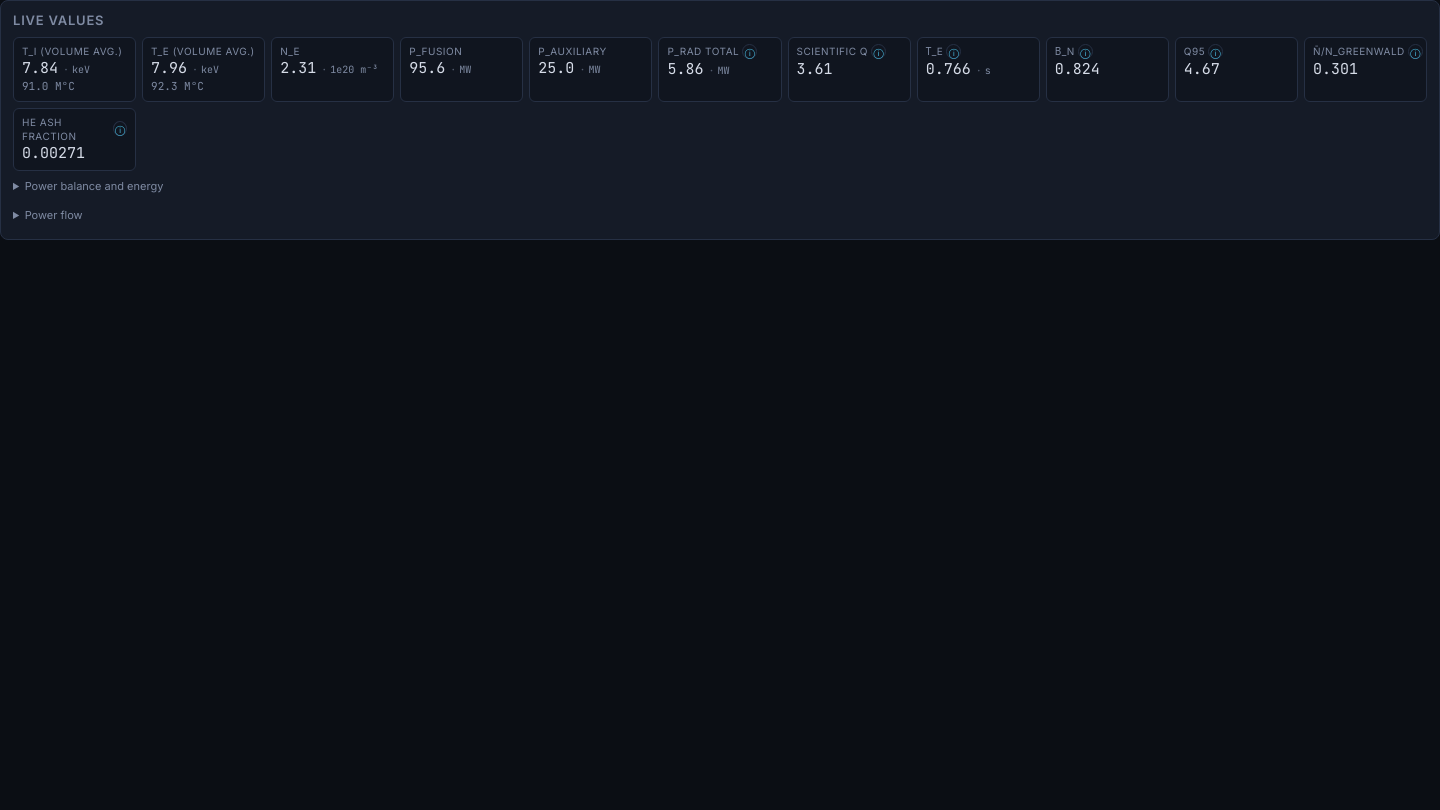
Scenario: LiveValuesPanel › puts an Explain popover on the label of a channel that has a glossary term, and none on one that has not
This screenshot has width=1440, height=810.
Note: the popover of the fusion gain is the glossary's
Click the button named "Explain Scientific gain": (878, 52) [871,44,886,59]
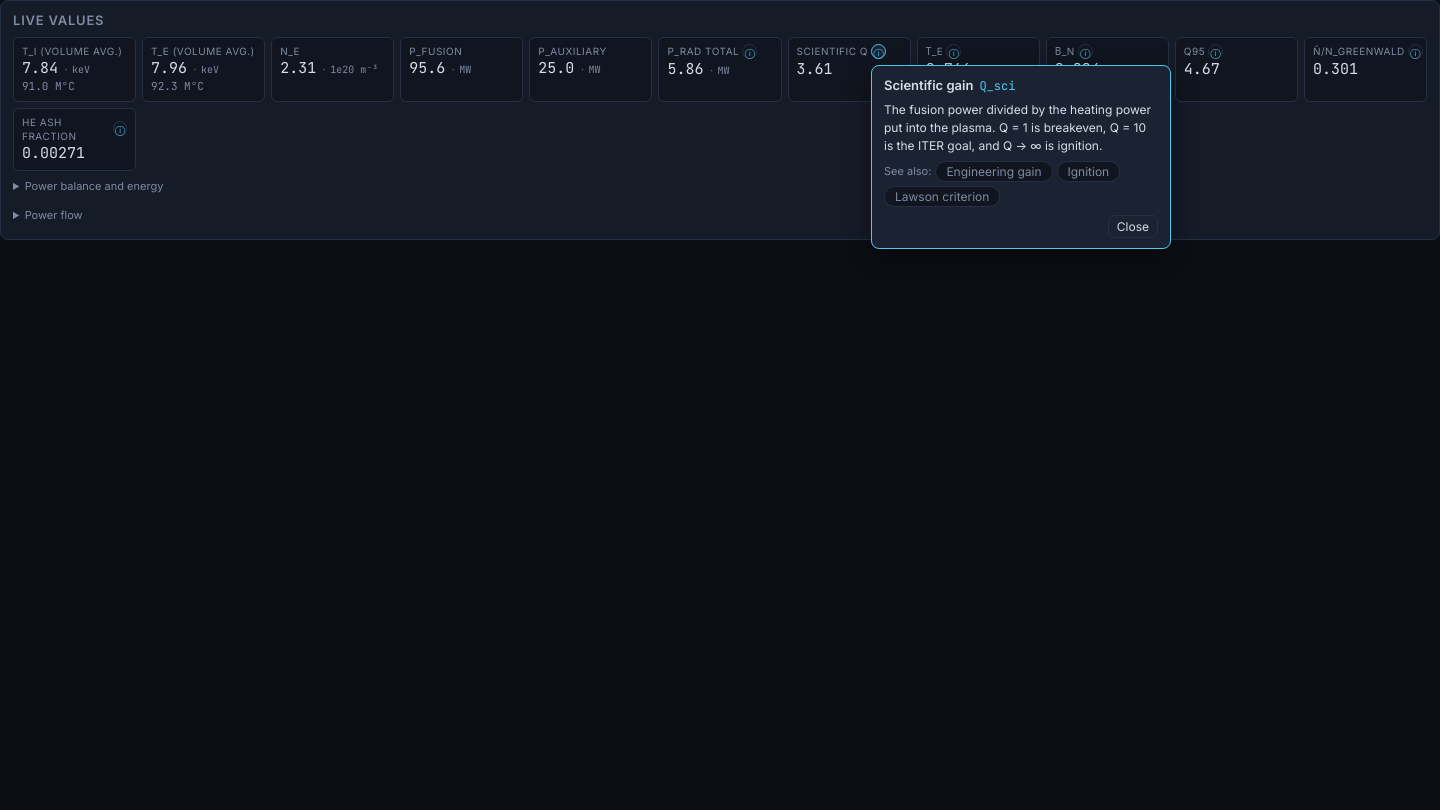
expect the text "3.61" is shown: met, box [796,59,832,79]
expect the dialog "Scientific gain" is shown: met, box [871,65,1171,249]
